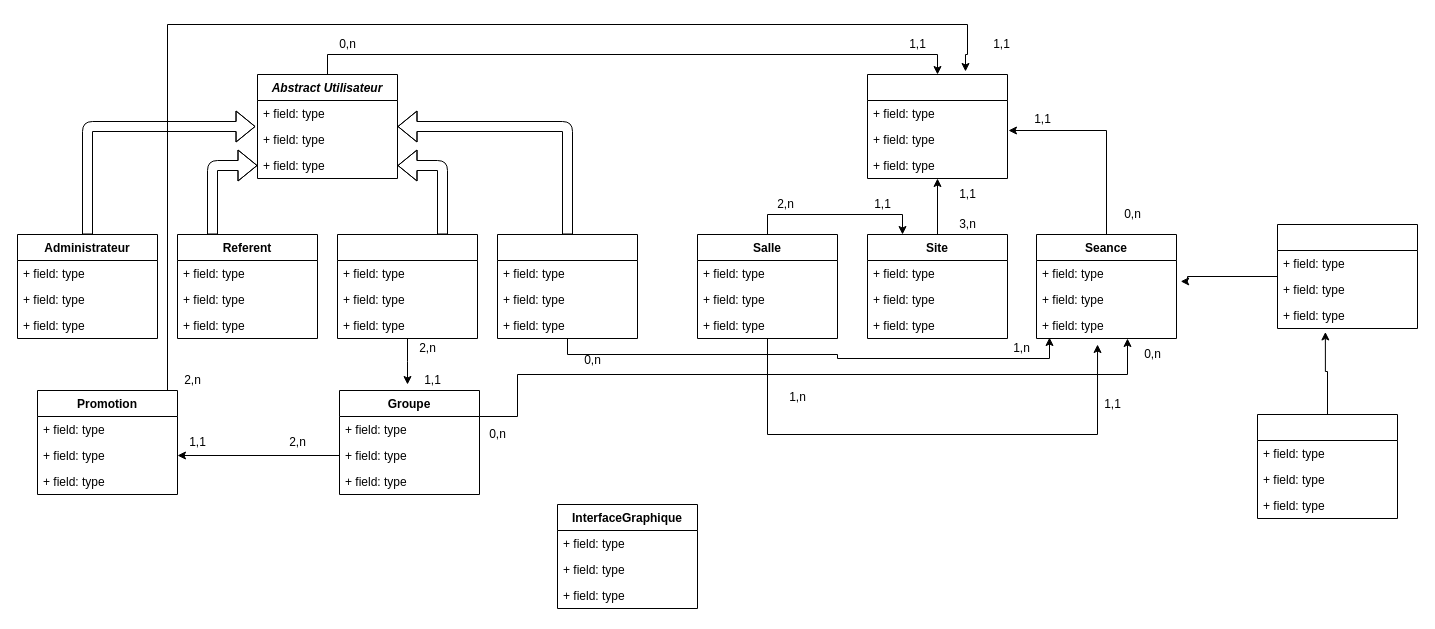
Some shapes in this 1435 by 629 pixel diagram are drawn without their labels. Here are the shapes that lost their labels. From the top down, the box of each, then its label:
(866, 74, 1008, 178): Ecole
(336, 234, 478, 338): Etudiant
(496, 234, 638, 338): Enseignant
(1276, 224, 1418, 328): Cours
(1256, 414, 1398, 518): Type_cours
